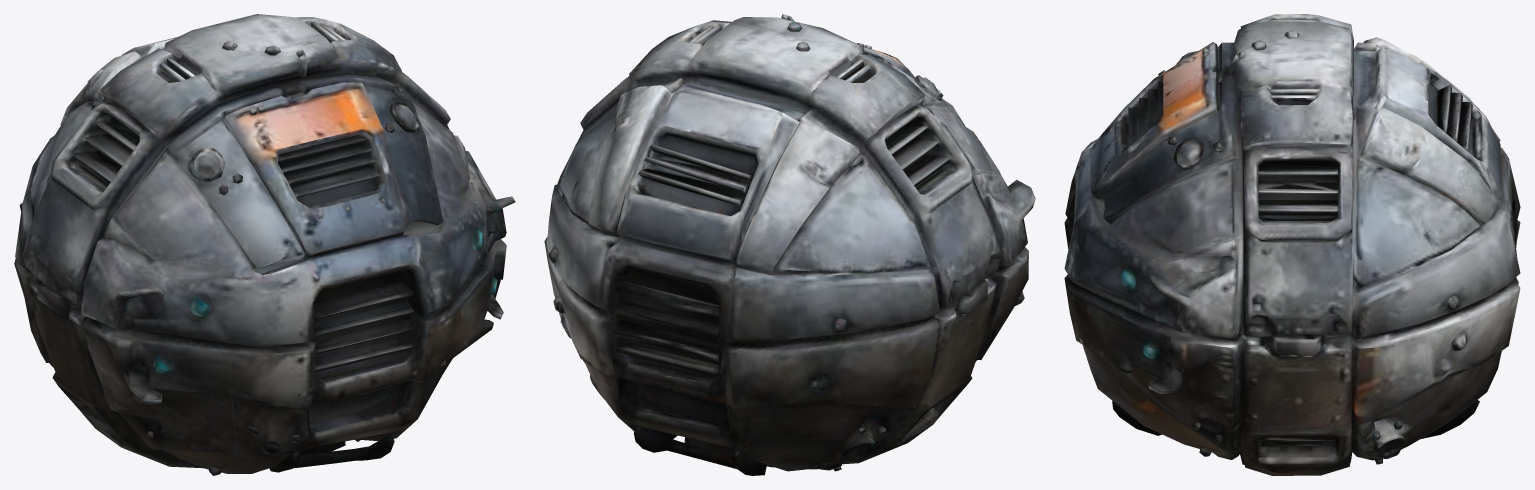
File: gad_orb.glb
3 renders of one model, left to right at view 1: azimuth 30°, elevation 25°; view 2: azimuth 150°, elevation 25°; view 3: azimuth 270°, elevation 25°, orthographic. The views are drawn at different scales.
Parts seen in each view (by area): view 1: tripo_node_9cd5ed29-5151-4b76-b584-bc06d8c46a73; view 2: tripo_node_9cd5ed29-5151-4b76-b584-bc06d8c46a73; view 3: tripo_node_9cd5ed29-5151-4b76-b584-bc06d8c46a73.
Part boxes in pixels (x1,y1,x2,y2): tripo_node_9cd5ed29-5151-4b76-b584-bc06d8c46a73: (14,14,515,475); tripo_node_9cd5ed29-5151-4b76-b584-bc06d8c46a73: (544,14,1035,475); tripo_node_9cd5ed29-5151-4b76-b584-bc06d8c46a73: (1064,14,1520,475).
Bounding box in the file's own units: 0.998 × 0.9668 × 0.9902.
1 material, 1 textured.
